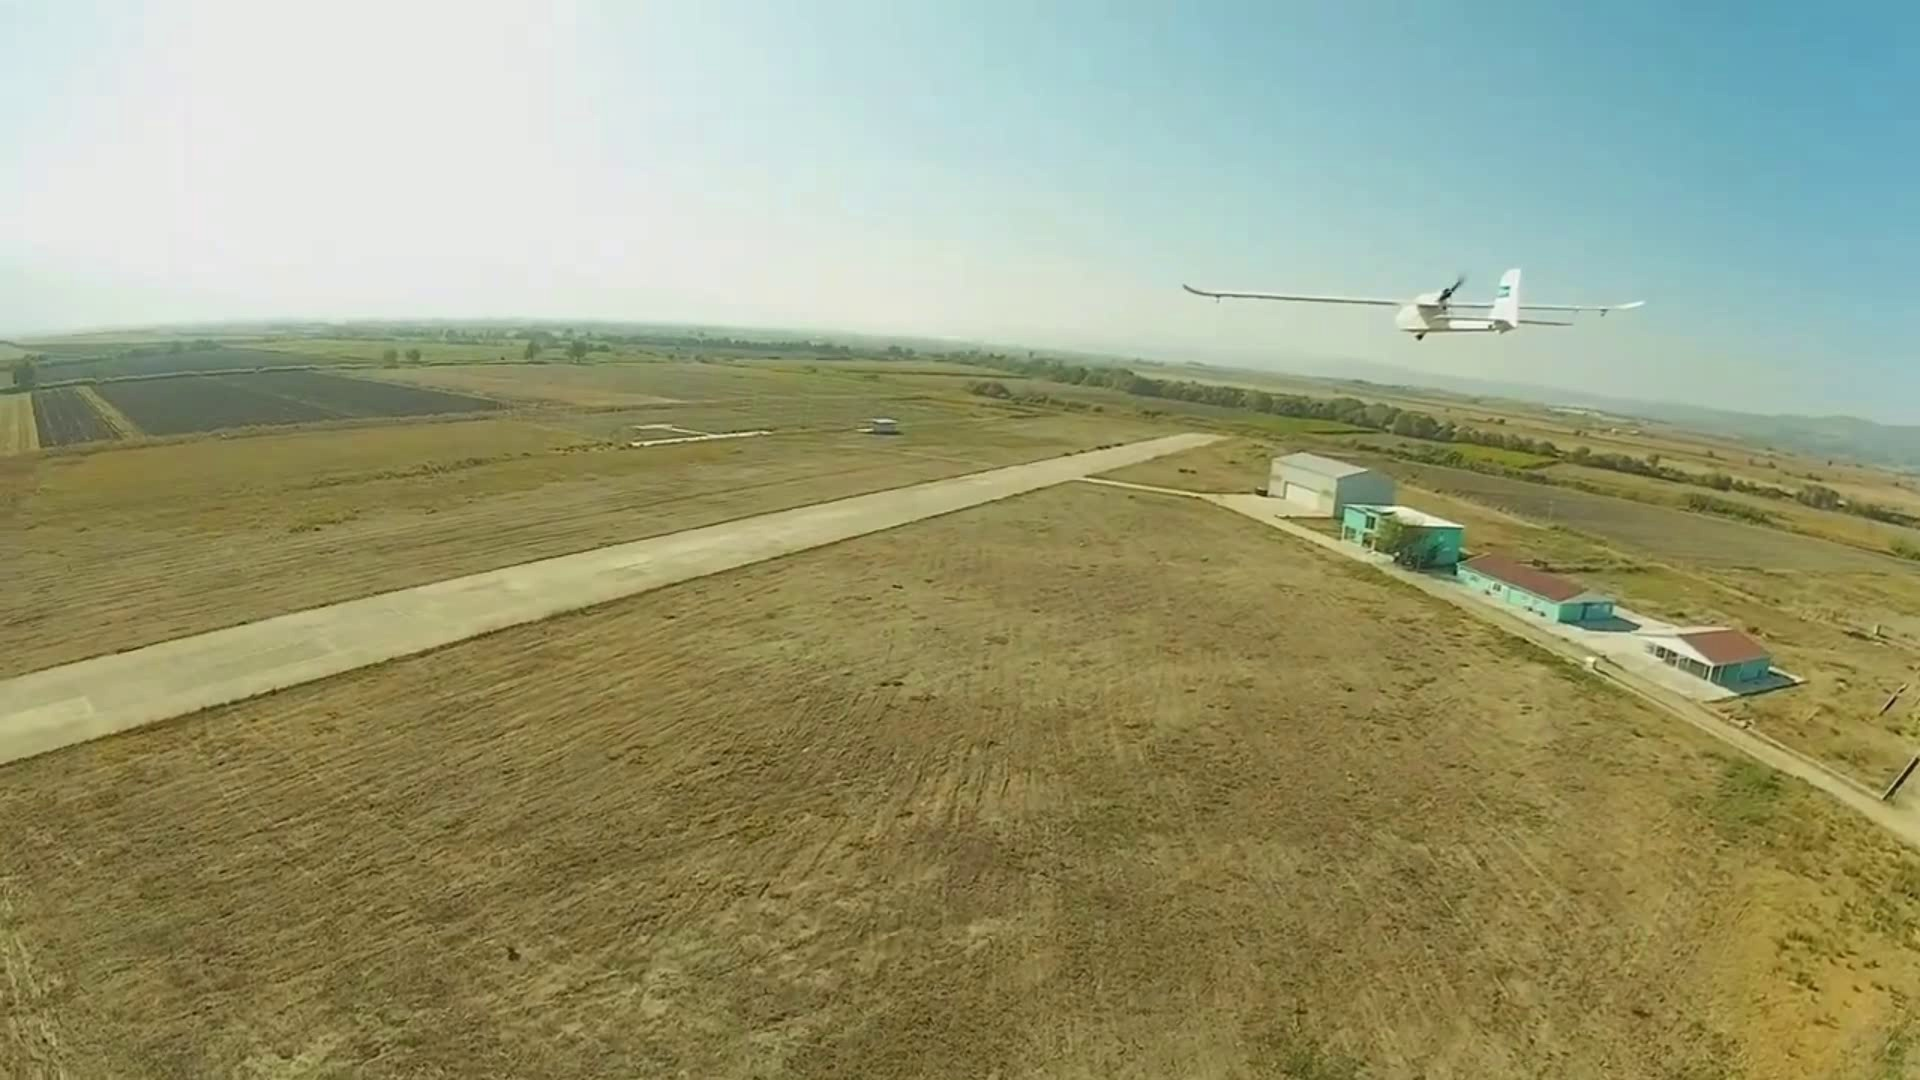airplane: (1178, 266, 1645, 341)
